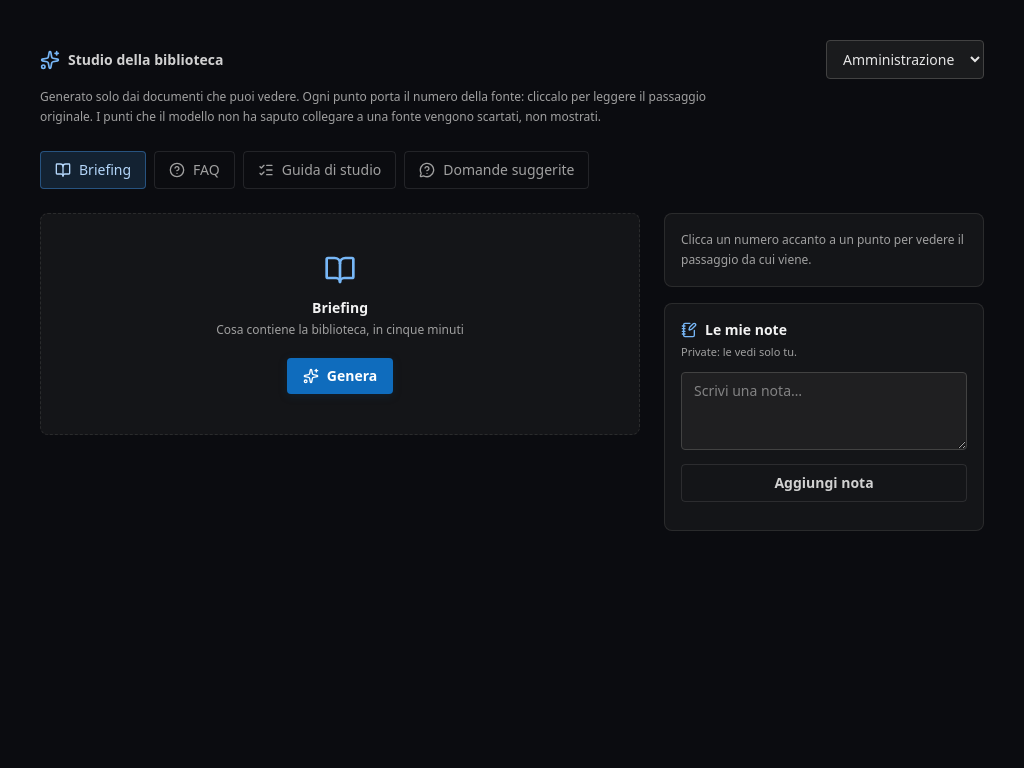
Test: StudioTab › saves a generated point as a private note together with its source
Click the button "Genera" at point(340, 376), box [287,358,393,394]
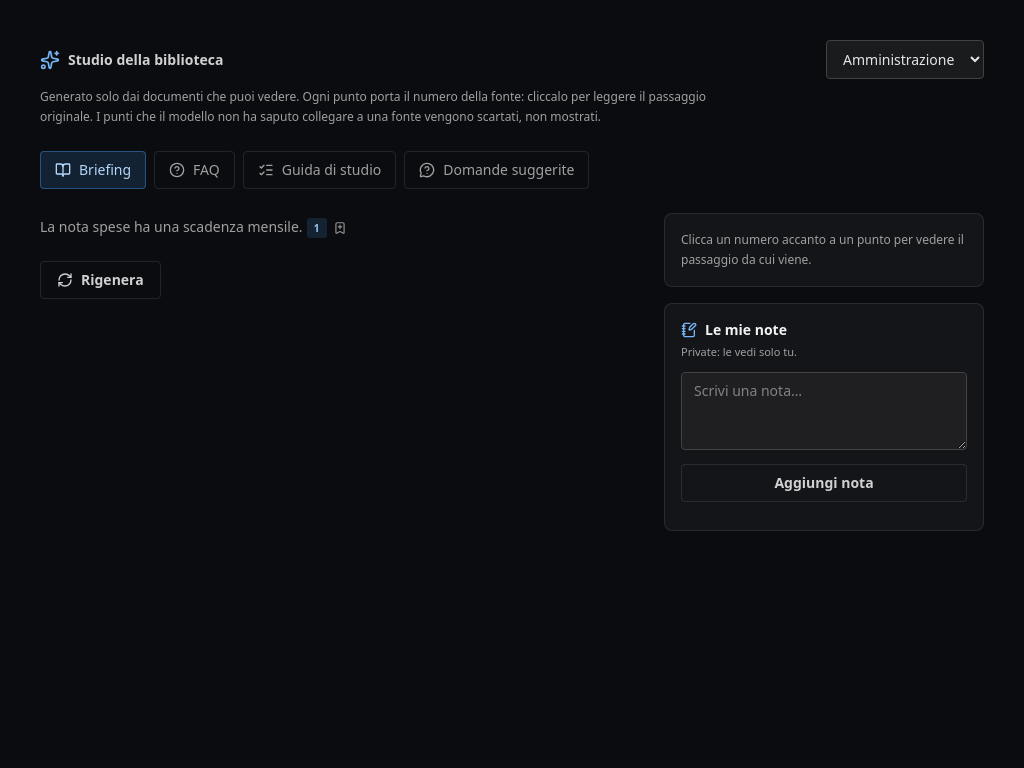
Click the button named "Salva nelle note" at point(340, 228), box [333,221,347,235]
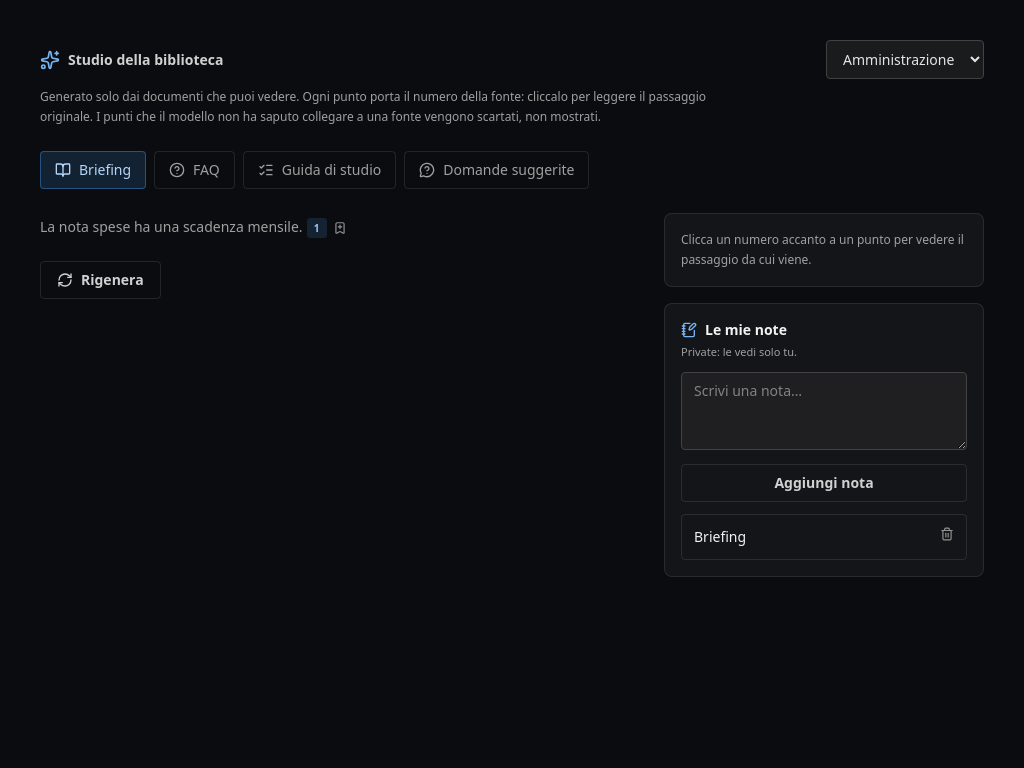
Check: the button "Briefing" is shown, box [694,527,746,547]
